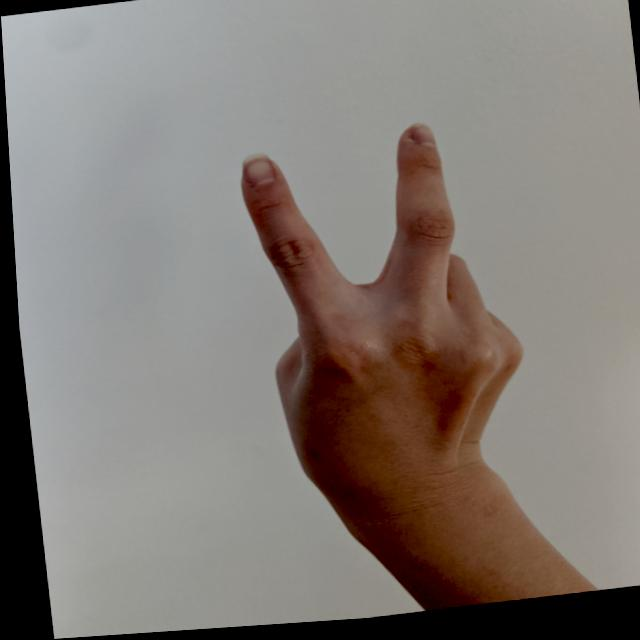V: (226, 114, 541, 520)
